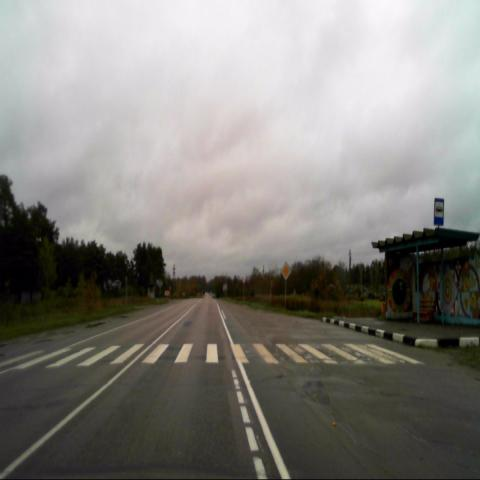2_1: (280, 262, 290, 280)
5_16: (434, 198, 444, 226)
